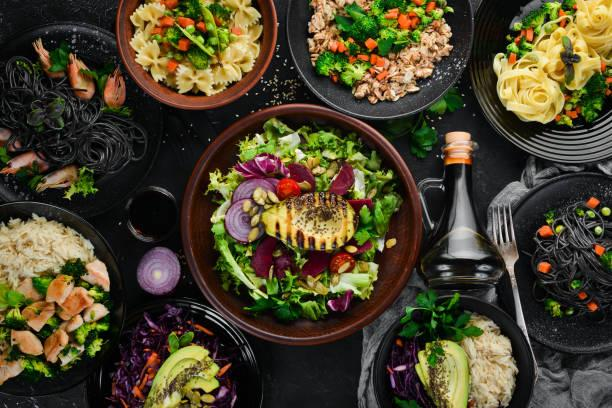Braised Crucian Carp: (183, 103, 419, 342), (0, 23, 168, 212), (0, 196, 132, 391), (466, 0, 612, 162), (285, 1, 470, 122), (490, 176, 612, 355), (84, 299, 260, 408), (367, 294, 535, 405), (115, 0, 275, 111)
